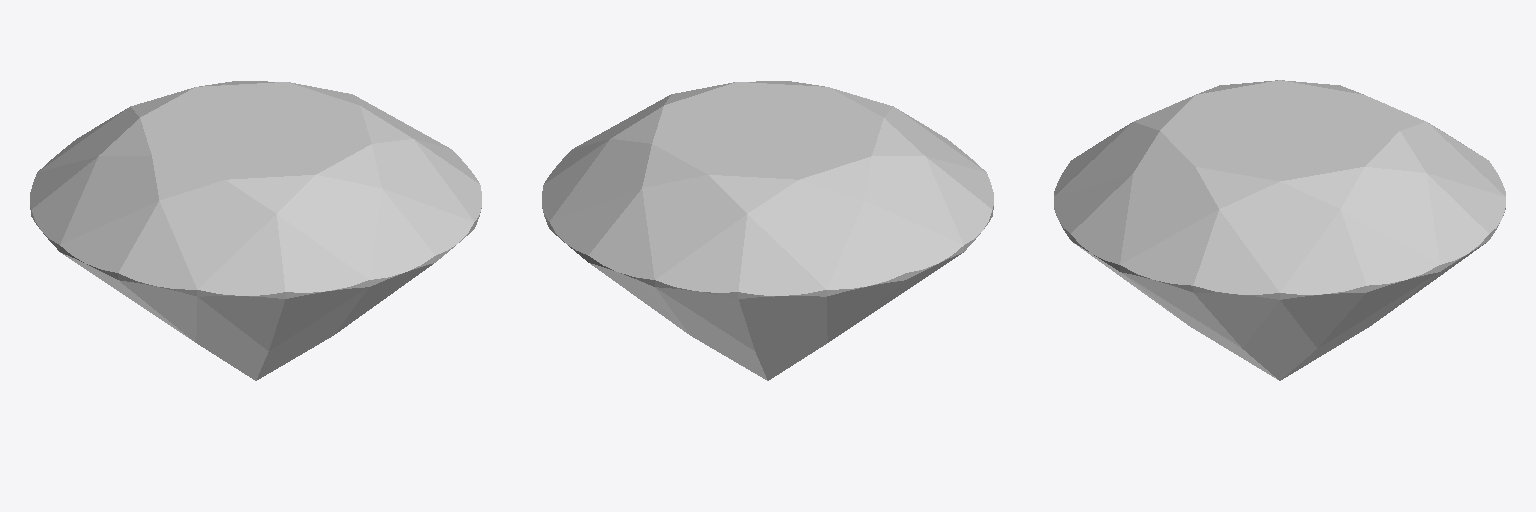
File: brillant.obj
3 views of the same model, side by side, from view 1: azimuth 30°, elevation 25°; view 2: azimuth 150°, elevation 25°; view 3: azimuth 270°, elevation 25° (orthographic).
Visible parts, largest first — view 1: dobj; view 2: dobj; view 3: dobj.
Boxes of the visible parts, <box> form: dobj: <box>30,81,481,380</box>; dobj: <box>542,81,993,380</box>; dobj: <box>1054,80,1505,380</box>.
Bounding box in the file's own units: 1.8 × 1.1 × 1.8.